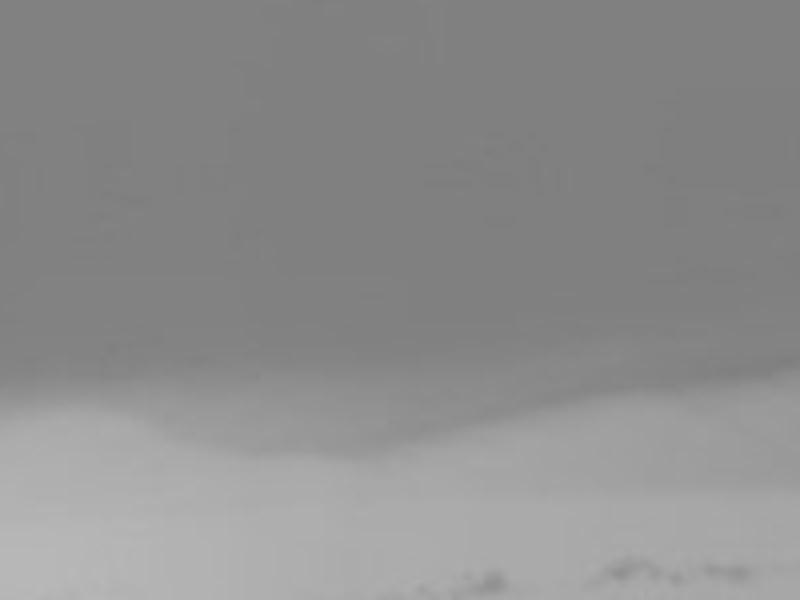defect: (605, 559, 639, 583), (477, 569, 505, 596), (727, 566, 754, 587), (695, 558, 723, 578), (674, 575, 688, 589), (647, 565, 659, 581)
